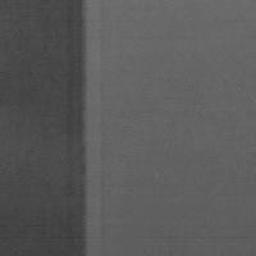Welding line: (76, 0, 88, 255)
